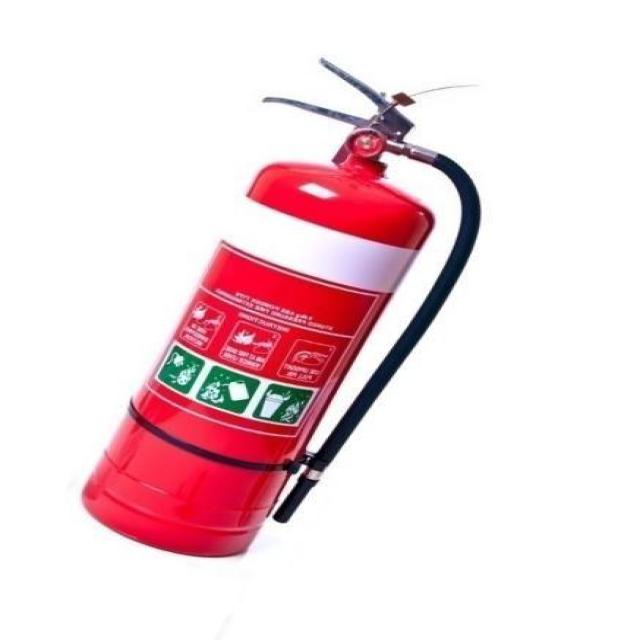fire_extinguisher: (71, 52, 488, 561)
